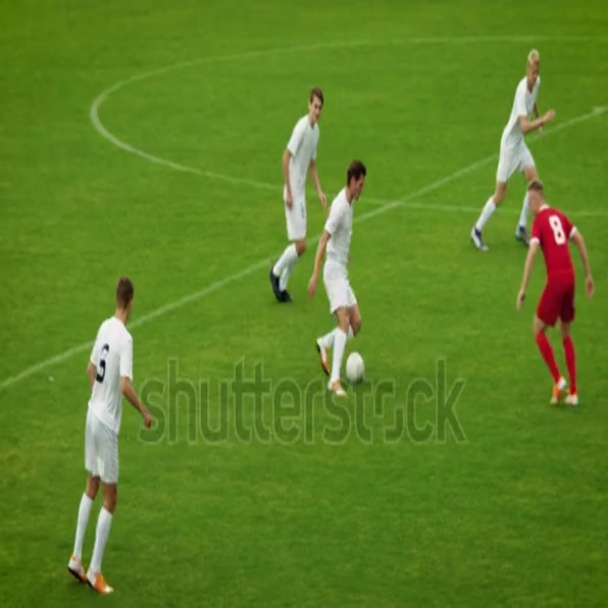ball: (349, 349, 365, 384)
